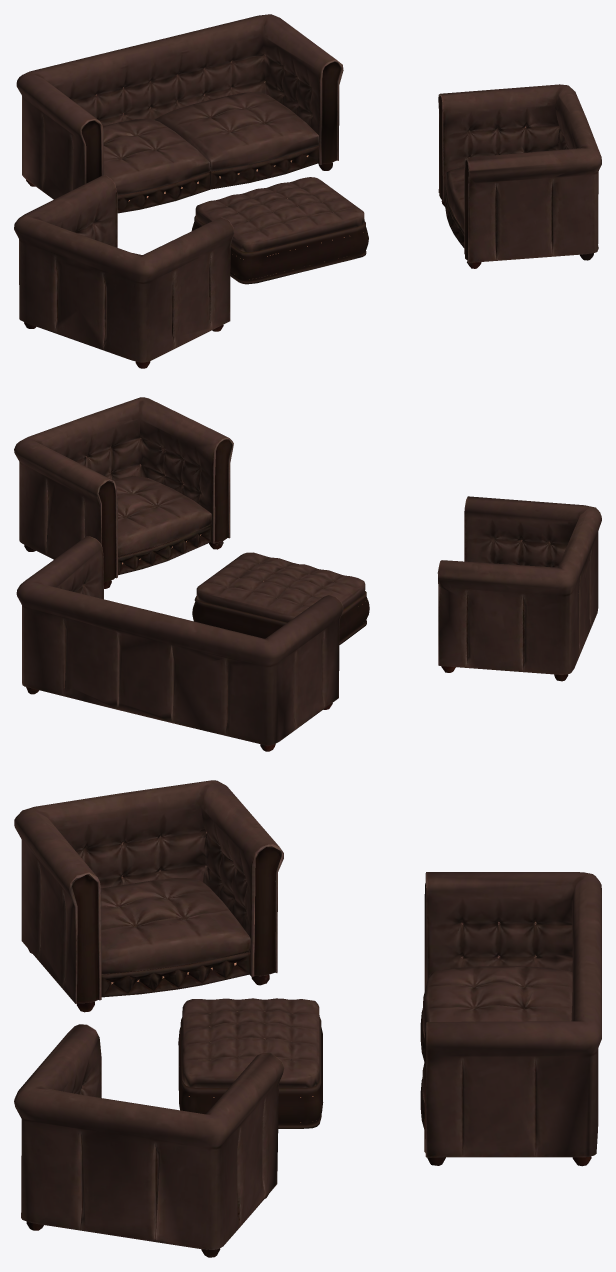
The model's file is chesterfield_lounge_set.glb.
3 views of the same model, one above another, from view 1: azimuth 30°, elevation 25°; view 2: azimuth 150°, elevation 25°; view 3: azimuth 270°, elevation 25° (orthographic). The views are drawn at different scales.
Visible parts, largest first — view 1: g (×3); view 2: g (×3); view 3: g (×3).
Part boxes in pixels (x1,y1,x2,y2): g (×3): (14, 14, 601, 368); g (×3): (14, 397, 601, 751); g (×3): (14, 780, 601, 1257).
Bounding box in the file's own units: 1.65 × 0.314 × 1.18.
2 materials, 2 textured.
